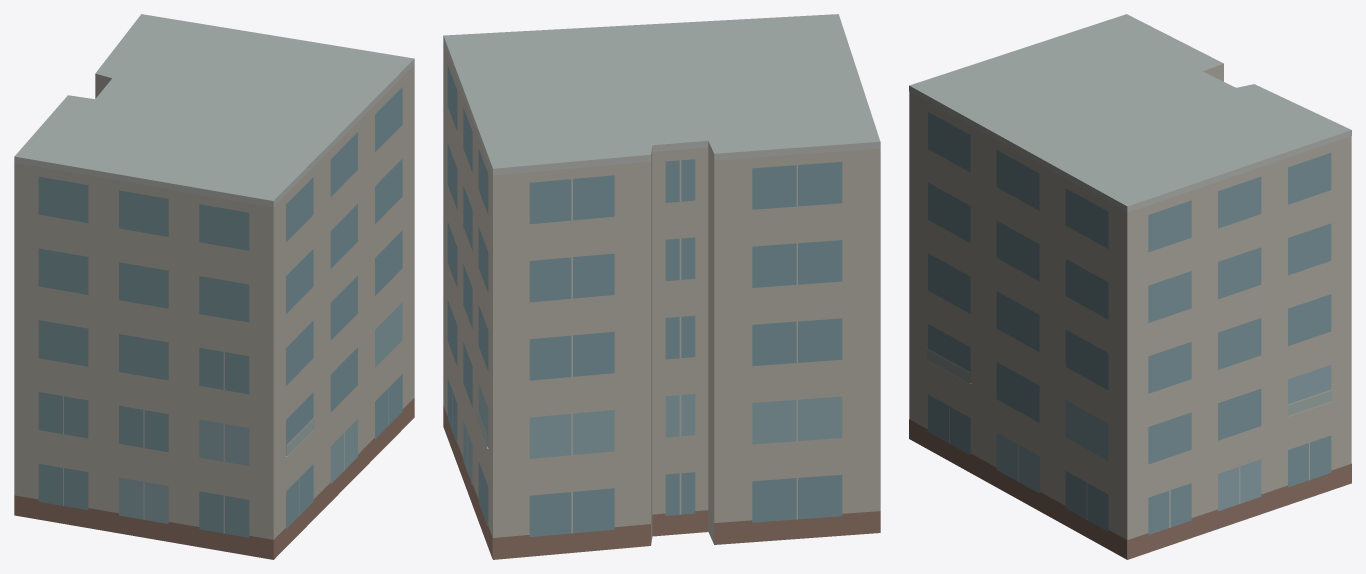
The model's file is survey-upis-32745079.glb.
3 views of the same model, side by side, from view 1: azimuth 30°, elevation 25°; view 2: azimuth 150°, elevation 25°; view 3: azimuth 270°, elevation 25° (orthographic). The views are drawn at different scales.
Parts seen in each view (by area): view 1: survey-upis-32745079.tmp; view 2: survey-upis-32745079.tmp; view 3: survey-upis-32745079.tmp.
Boxes of the visible parts, x1,y1,x2,y2 form: survey-upis-32745079.tmp: [14, 14, 414, 559]; survey-upis-32745079.tmp: [443, 14, 880, 559]; survey-upis-32745079.tmp: [909, 14, 1351, 559].
Bounding box in the file's own units: 16.6 × 14.2 × 16.13.
